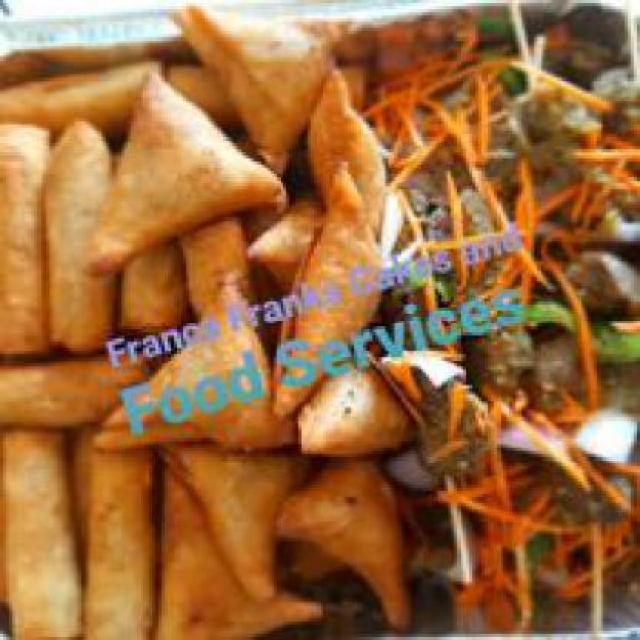samosa: (130, 3, 407, 637)
stuffed grape leaves: (382, 12, 636, 570)
